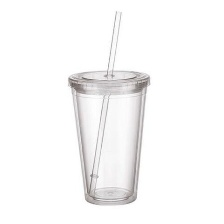drinking_straw: (85, 5, 125, 196)
glass: (57, 62, 158, 212)
